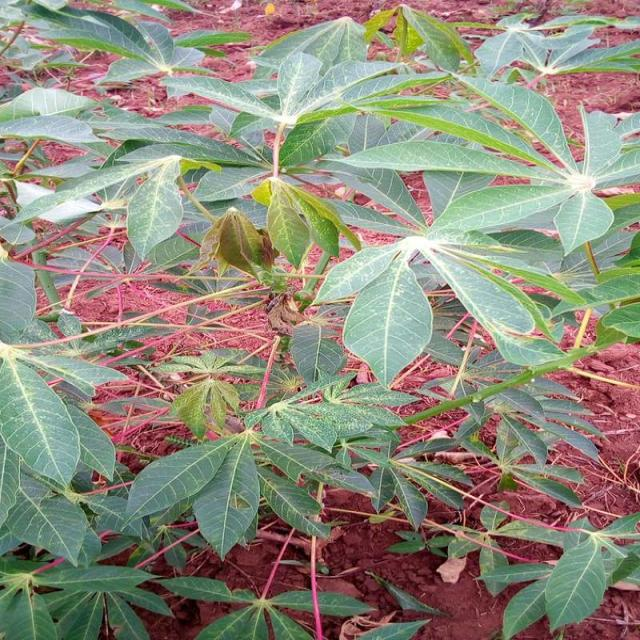cassava leaf: (1, 2, 638, 637), (342, 255, 432, 389)
